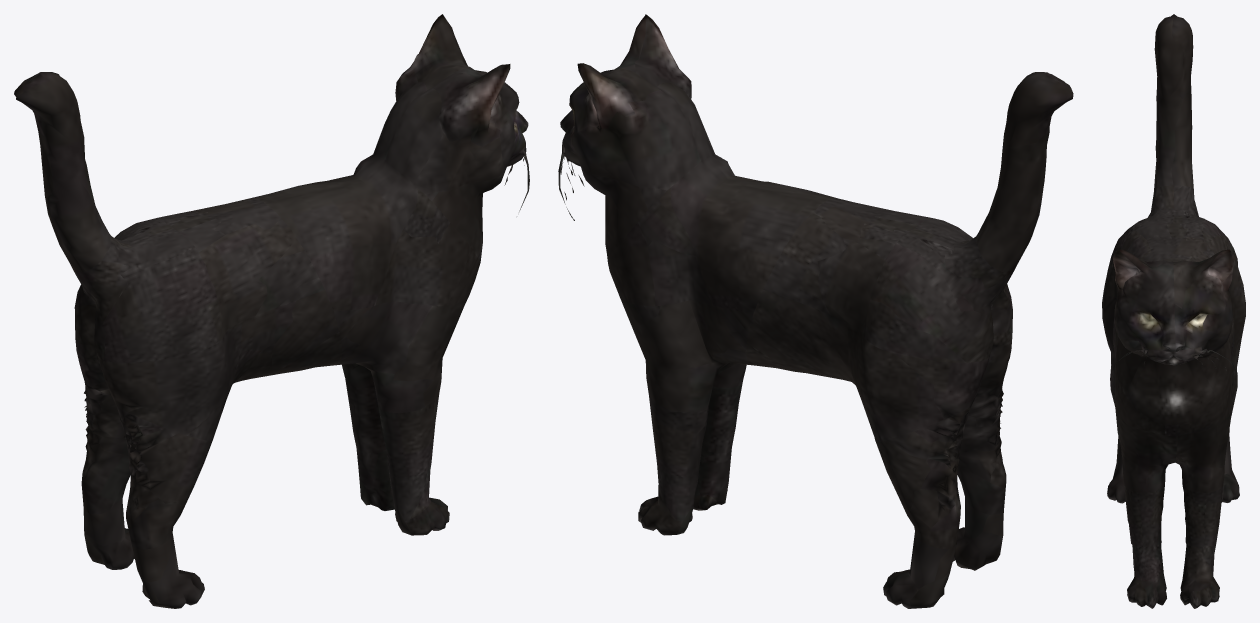
Rendered from AURONGATO-lo.glb.
3 renders of one model, left to right at view 1: azimuth 30°, elevation 25°; view 2: azimuth 150°, elevation 25°; view 3: azimuth 270°, elevation 25°, orthographic. The views are drawn at different scales.
Parts seen in each view (by area): view 1: tripo_node_607ea430-ccaf-435a-a49e-53cd502c519f; view 2: tripo_node_607ea430-ccaf-435a-a49e-53cd502c519f; view 3: tripo_node_607ea430-ccaf-435a-a49e-53cd502c519f.
Part boxes in pixels (x1,y1,x2,y2): tripo_node_607ea430-ccaf-435a-a49e-53cd502c519f: (14, 14, 529, 608); tripo_node_607ea430-ccaf-435a-a49e-53cd502c519f: (558, 14, 1073, 608); tripo_node_607ea430-ccaf-435a-a49e-53cd502c519f: (1102, 14, 1245, 608).
Bounding box in the file's own units: 0.9965 × 0.9995 × 0.2955.
Materials: 1 (1 with a texture image).
